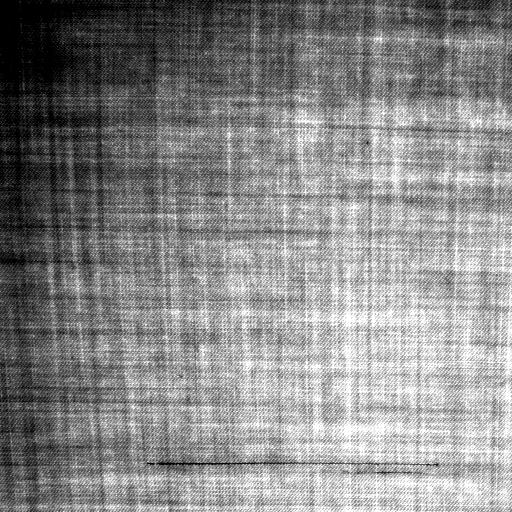fabric_thick_weft: (140, 457, 444, 469), (332, 466, 432, 480)
